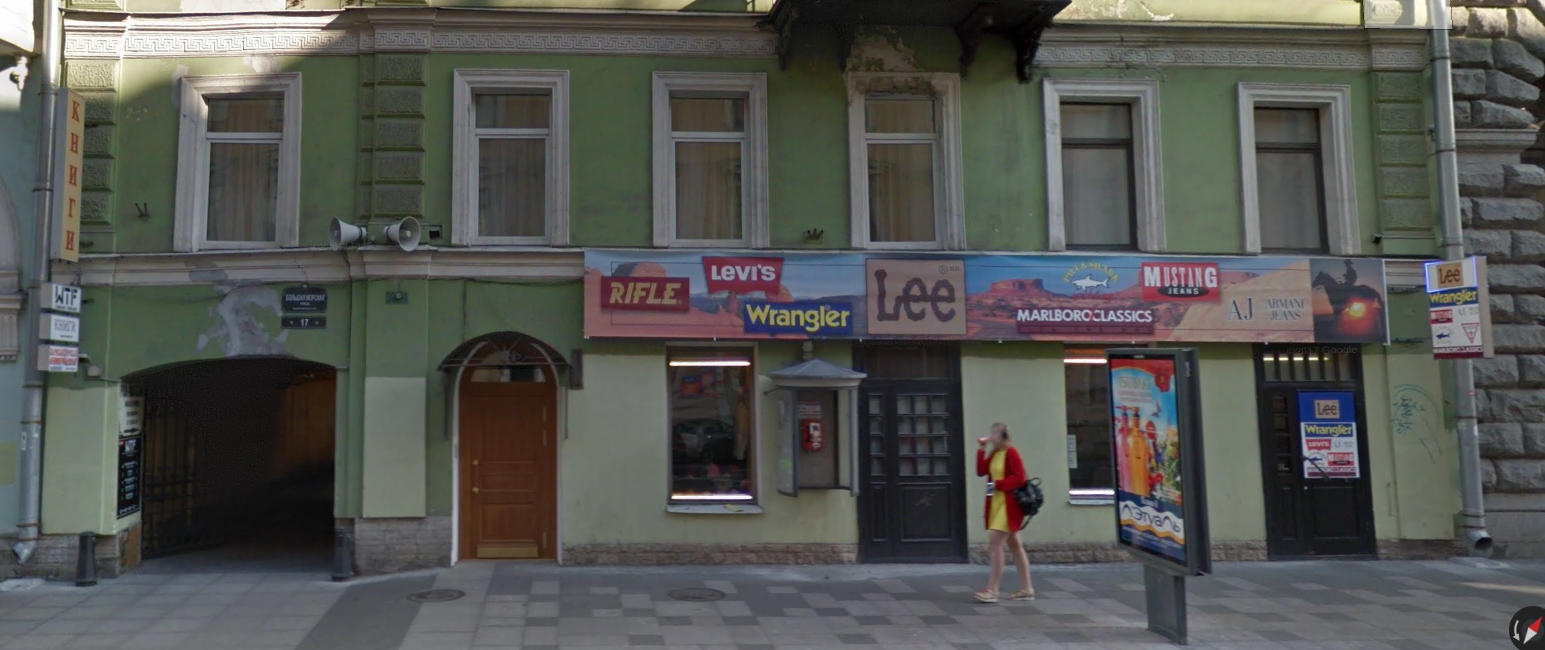arch: (109, 340, 352, 574)
cantilever: (1396, 260, 1494, 364), (43, 84, 92, 265), (26, 276, 99, 397)
door: (1250, 352, 1372, 567), (850, 355, 964, 569), (451, 358, 558, 560)
signboard: (590, 247, 1392, 340)
window: (1253, 90, 1341, 248), (860, 91, 946, 250), (462, 88, 550, 235), (200, 89, 283, 238), (1060, 94, 1139, 248), (670, 355, 752, 501), (668, 105, 748, 235)
